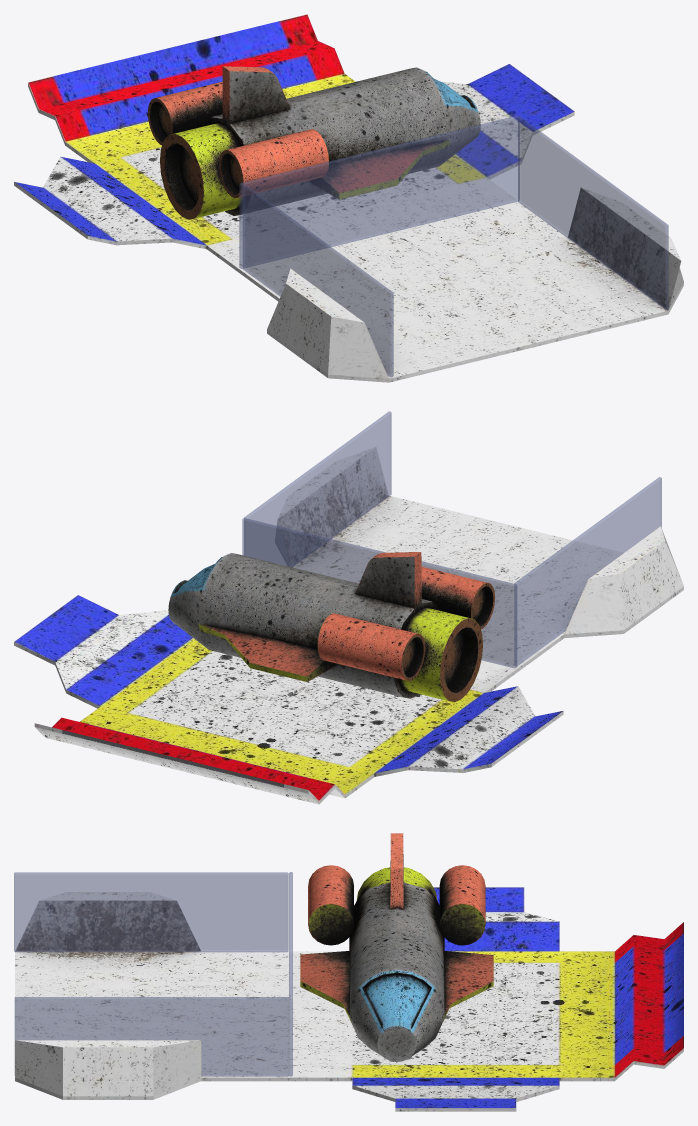
3 renders of one model, top to bottom at view 1: azimuth 30°, elevation 25°; view 2: azimuth 150°, elevation 25°; view 3: azimuth 270°, elevation 25°, orthographic. The views are drawn at different scales.
Parts seen in each view (by area): view 1: pCube1, pasted__polySurface90, pCube2, pCube3, pCube4; view 2: pCube1, pasted__polySurface90, pCube3, pCube4, pCube2; view 3: pCube1, pasted__polySurface90, pCube4, pCube3, pCube2.
Boxes of the visible parts, x1,y1,x2,y2 form: pCube1: (14,14,683,382); pasted__polySurface90: (147,66,480,219); pCube2: (239,115,519,268); pCube3: (518,117,668,309); pCube4: (242,184,393,377); pCube1: (14,447,683,804); pasted__polySurface90: (168,552,495,702); pCube3: (244,411,391,566); pCube4: (514,477,661,666); pCube2: (242,518,517,668); pCube1: (15,887,683,1111); pasted__polySurface90: (300,833,493,1061); pCube4: (14,872,288,952); pCube3: (14,997,288,1076); pCube2: (289,872,292,1076).
Size of the model in its own units: 150 by 44.44 by 191.
Materials: 3 (2 with a texture image).
